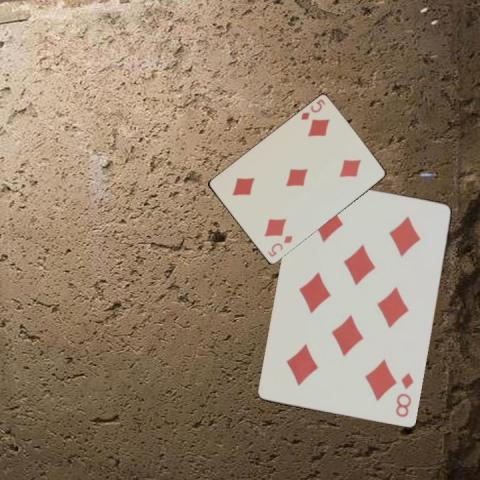5d: (265, 232, 294, 258), (297, 96, 327, 121)
8d: (393, 370, 415, 419)
